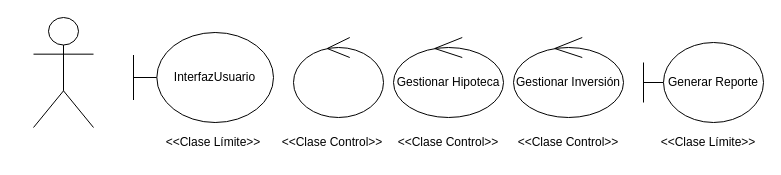
This 781x175 diagram has some shape labels left out. Each missing label, with the centre of its shape:
"Calcular Fondos" goes at pixel 338 77.
"Empleado MSGF" goes at pixel 63 72.
